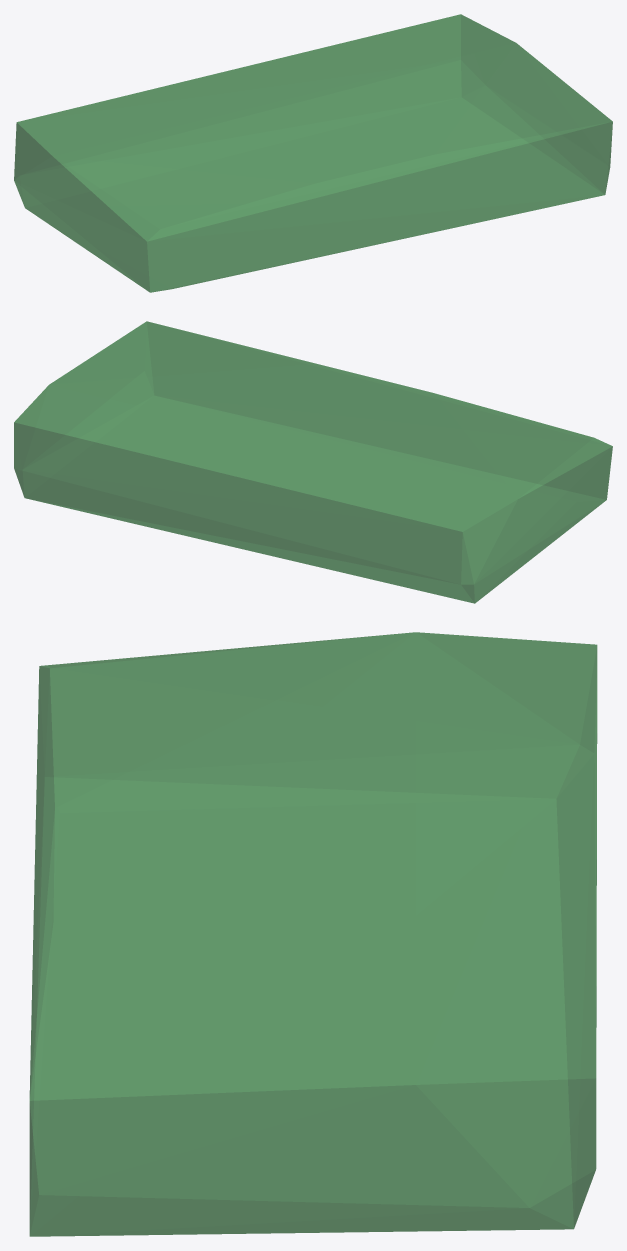
3 views of the same model, one above another, from view 1: azimuth 30°, elevation 25°; view 2: azimuth 150°, elevation 25°; view 3: azimuth 270°, elevation 25° (orthographic). The views are drawn at different scales.
Visible parts, largest first — view 1: Shape_IndexedFaceSet.003_Shape_IndexedFaceSet.3341; view 2: Shape_IndexedFaceSet.003_Shape_IndexedFaceSet.3341; view 3: Shape_IndexedFaceSet.003_Shape_IndexedFaceSet.3341.
Part boxes in pixels (bbox=[...]): Shape_IndexedFaceSet.003_Shape_IndexedFaceSet.3341: bbox=[14, 14, 612, 292]; Shape_IndexedFaceSet.003_Shape_IndexedFaceSet.3341: bbox=[14, 321, 612, 603]; Shape_IndexedFaceSet.003_Shape_IndexedFaceSet.3341: bbox=[29, 632, 597, 1236].
Size of the model in its own units: 0.5054 by 0.0829 by 0.2679.
